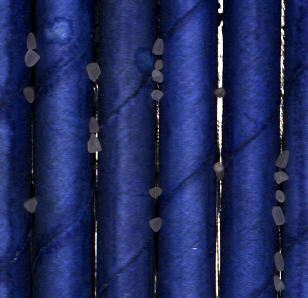broken_grain: (23, 49, 41, 71), (87, 133, 104, 155), (85, 60, 101, 83), (275, 148, 291, 170), (271, 206, 286, 228), (148, 216, 164, 236), (152, 36, 166, 57), (273, 169, 290, 186), (273, 274, 287, 294), (24, 196, 38, 215), (25, 31, 38, 51), (147, 185, 164, 200), (22, 85, 35, 104), (88, 116, 100, 133), (274, 188, 286, 204), (151, 88, 163, 103)
complete_grain: (271, 250, 286, 273)
milky_broken_grain: (209, 160, 227, 174), (150, 68, 164, 85)
yellow_grain: (153, 58, 165, 71)
